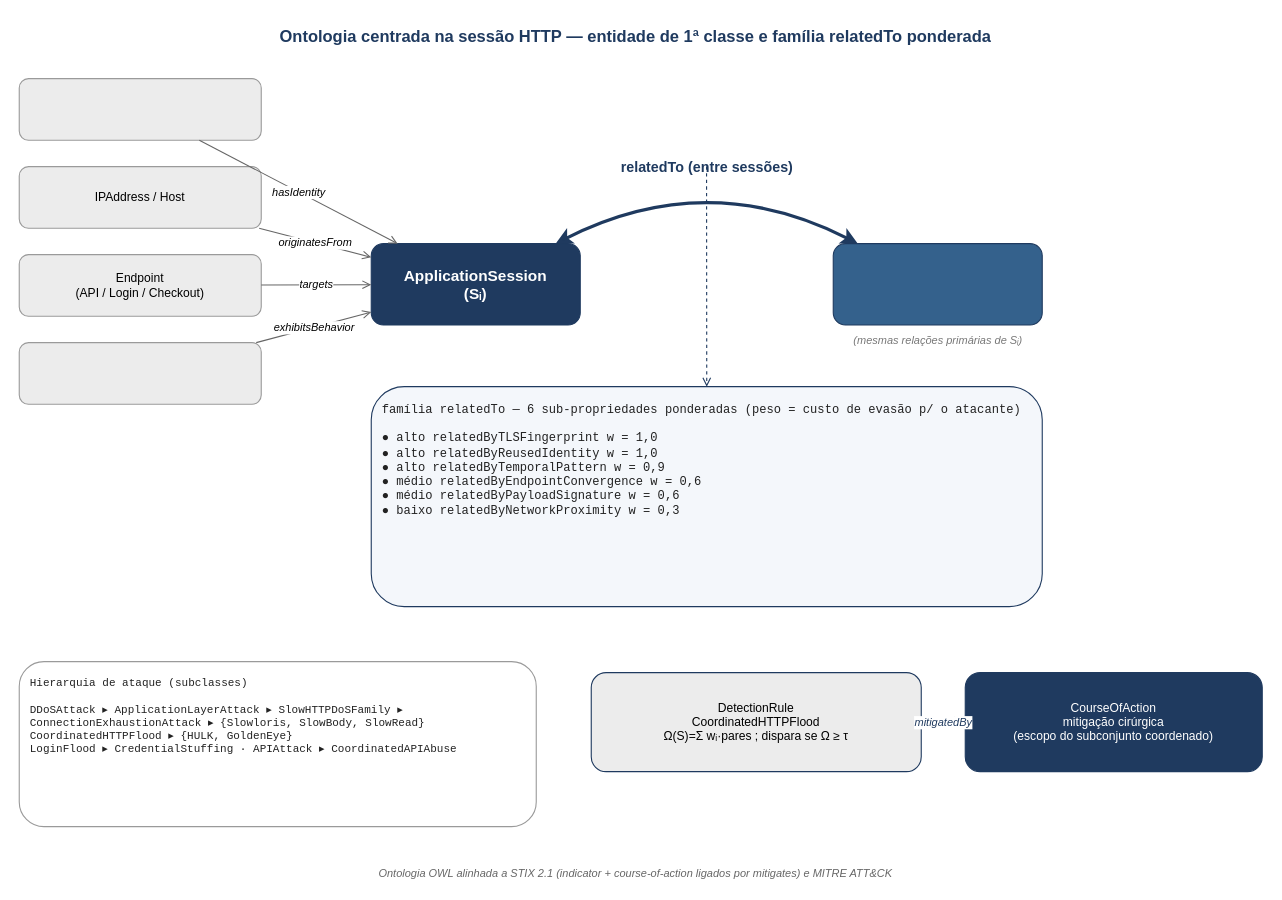
This 1282x900 diagram has some shape labels left out. The centre of each missing label's shape, as x and y in pixels:
"ApplicationSession (Sⱼ)" goes at point 937,284.
"Behavior (UserBehavior / BotBehavior)" goes at point 139,373.
"Identity (Cookie / Token / JA4)" goes at point 139,109.
